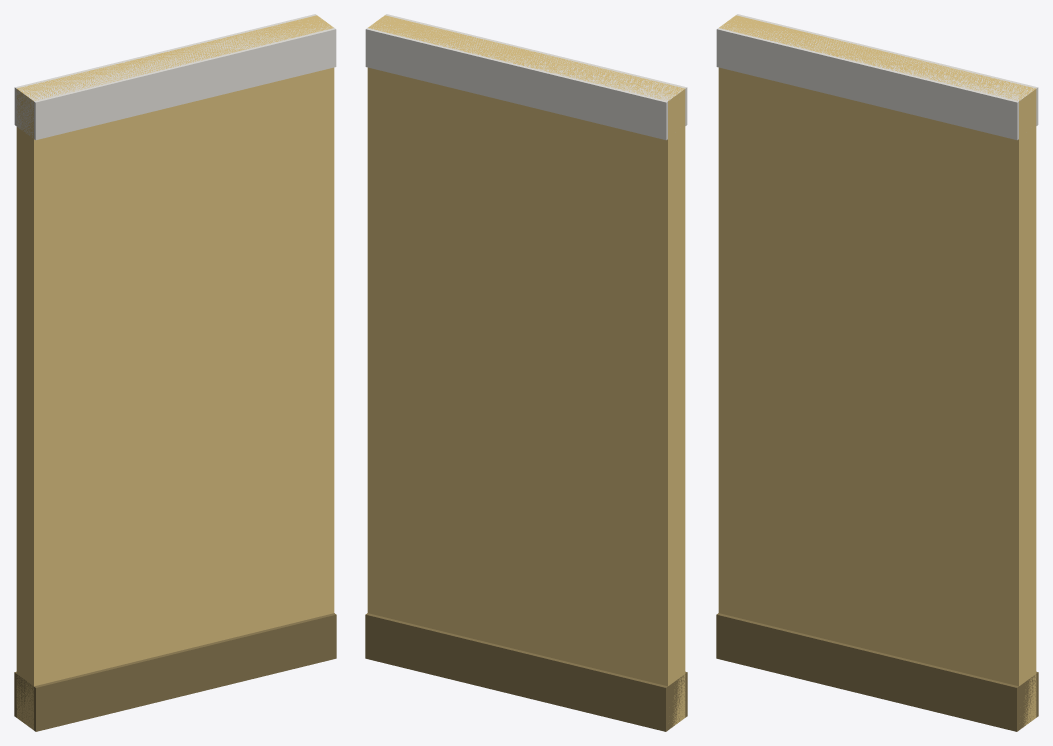
The model's file is mod-reboco-amarelo.gltf.
The picture shows the model from 3 angles, left to right: view 1: azimuth 30°, elevation 25°; view 2: azimuth 150°, elevation 25°; view 3: azimuth 330°, elevation 25°; orthographic projection.
Visible parts, largest first — view 1: mod-reboco-amarelo; view 2: mod-reboco-amarelo; view 3: mod-reboco-amarelo.
Boxes of the visible parts, x1,y1,x2,y2 form: mod-reboco-amarelo: [14, 14, 336, 731]; mod-reboco-amarelo: [365, 14, 687, 731]; mod-reboco-amarelo: [716, 14, 1038, 731].
Size of the model in its own units: 1 by 2 by 0.124.
